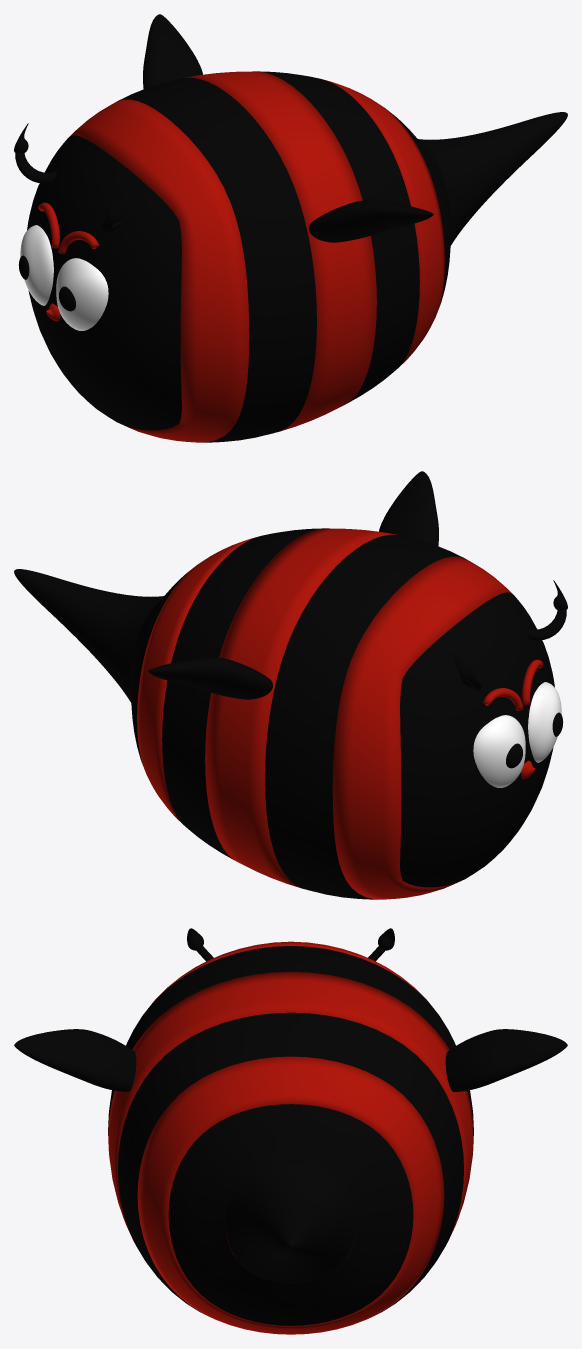
Rendered from enemy.fbx.
3 renders of one model, top to bottom at view 1: azimuth 30°, elevation 25°; view 2: azimuth 150°, elevation 25°; view 3: azimuth 270°, elevation 25°, orthographic.
Parts seen in each view (by area): view 1: Enemy, Enemy-1, Enemy-2; view 2: Enemy, Enemy-1, Enemy-2; view 3: Enemy.
Boxes of the visible parts, bbox=[...] form: Enemy: bbox=[14, 14, 567, 442]; Enemy-1: bbox=[38, 202, 99, 254]; Enemy-2: bbox=[15, 152, 121, 233]; Enemy: bbox=[14, 471, 567, 899]; Enemy-1: bbox=[483, 659, 543, 710]; Enemy-2: bbox=[460, 609, 566, 690]; Enemy: bbox=[14, 928, 567, 1334].
Bounding box in the file's own units: 327 × 194 × 294.
